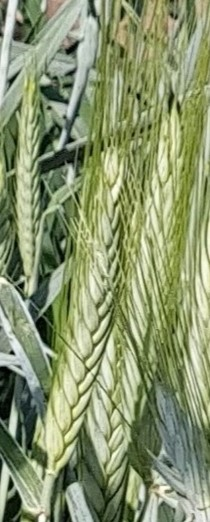Healthy Wheat: (43, 174, 147, 464)
